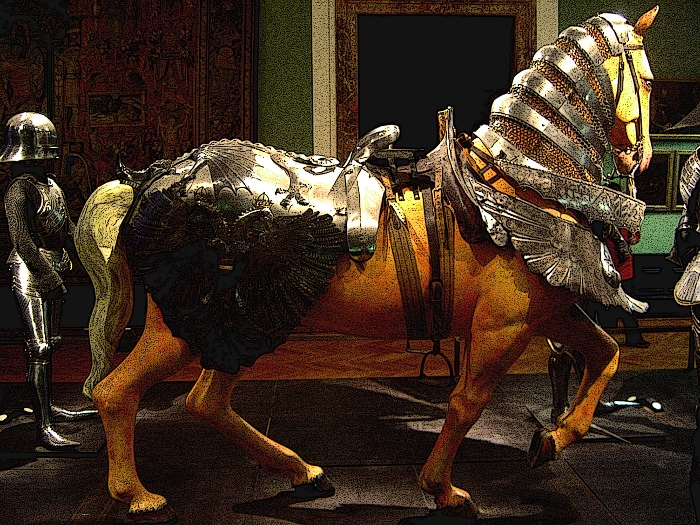Horse: (109, 21, 655, 496)
Person: (11, 109, 86, 451)
